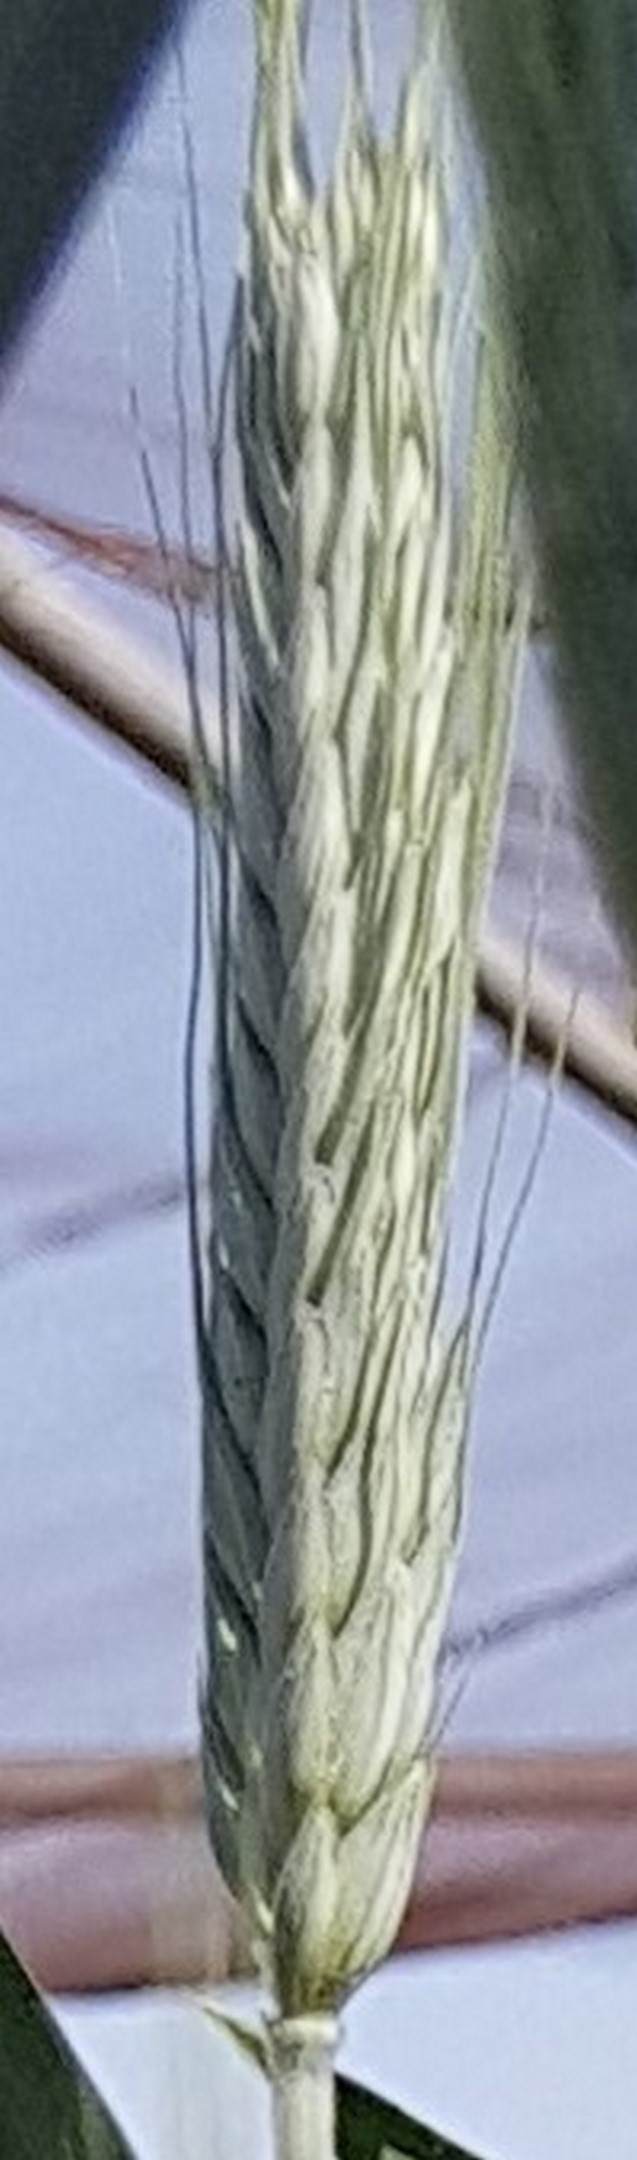Healthy Wheat: (128, 182, 505, 1980)
